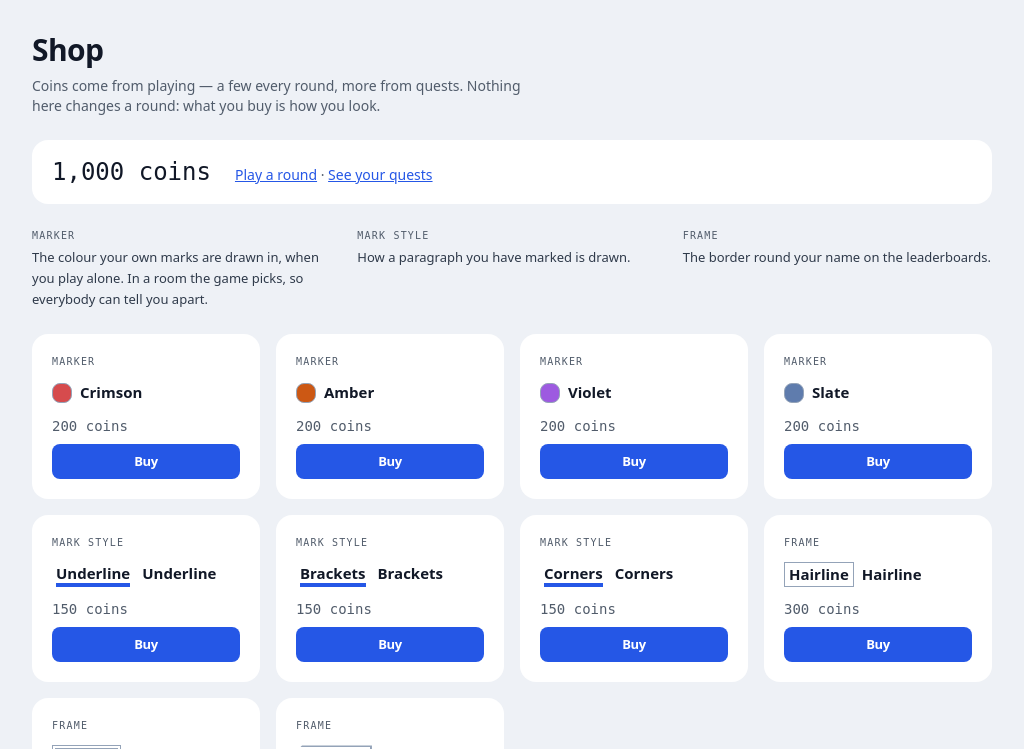
Test: H.7 — the button posts, and trusts the server › does not claim a refusal when the server was never reached
Click the button "Buy" below "Crimson" at (146, 462), box [52,444,240,479]
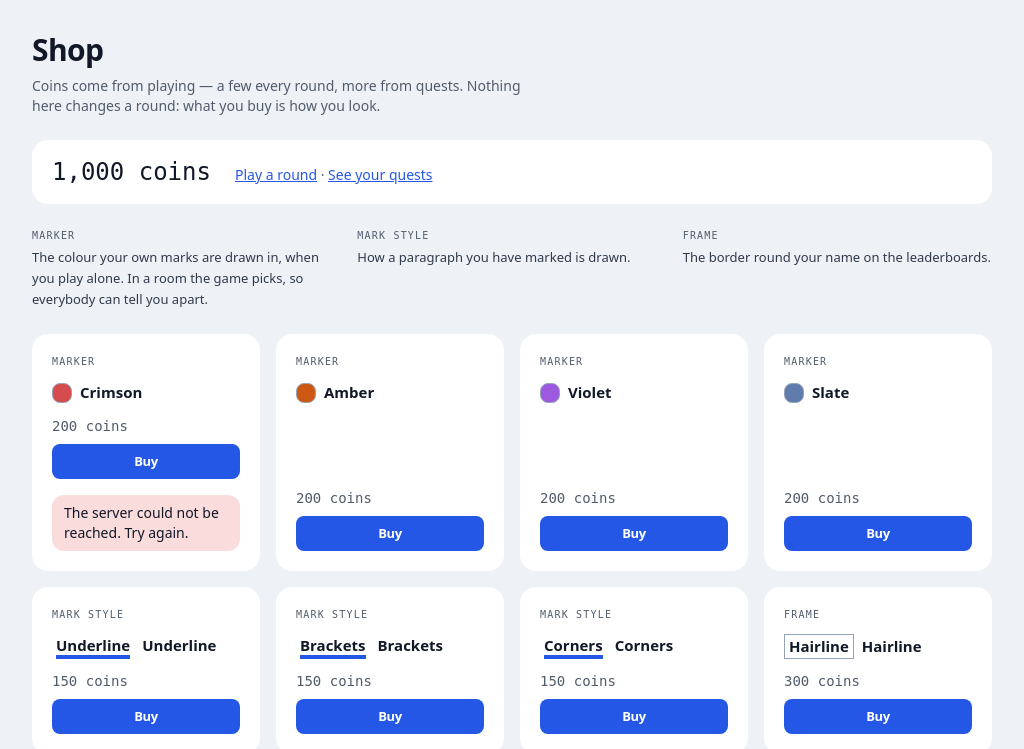
expect the message shows "could not be reached": met, box [64,503,219,542]
